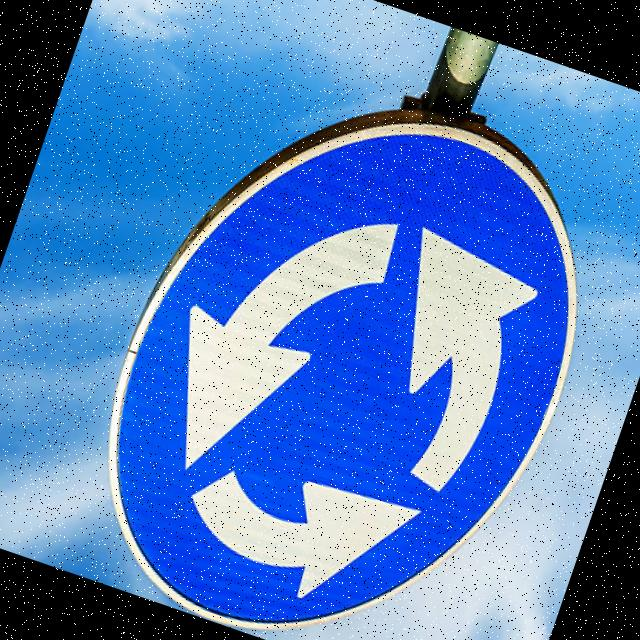round_about: (49, 39, 636, 640)
